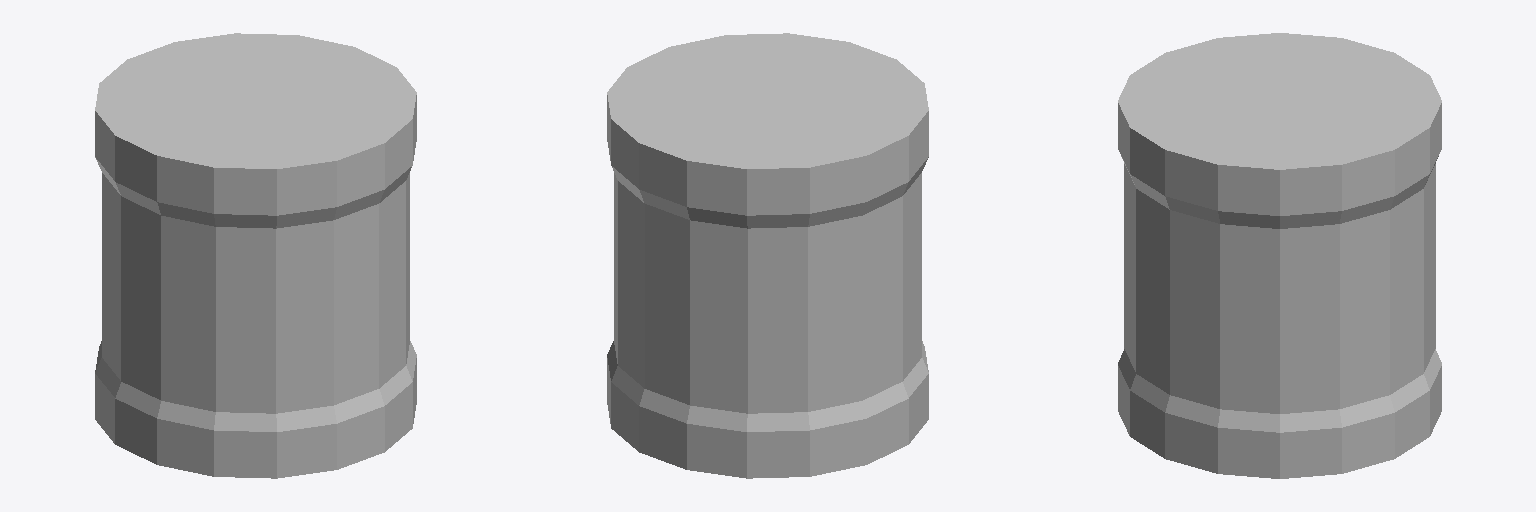
Rendered from fueltank(alternate).obj.
3 views of the same model, side by side, from view 1: azimuth 30°, elevation 25°; view 2: azimuth 150°, elevation 25°; view 3: azimuth 270°, elevation 25° (orthographic).
Parts seen in each view (by area): view 1: Cylinder.001_Cylinder.006; view 2: Cylinder.001_Cylinder.006; view 3: Cylinder.001_Cylinder.006.
Boxes of the visible parts, x1,y1,x2,y2 form: Cylinder.001_Cylinder.006: [95, 33, 416, 478]; Cylinder.001_Cylinder.006: [607, 33, 928, 478]; Cylinder.001_Cylinder.006: [1118, 33, 1441, 478].
Bounding box in the file's own units: 1.88 × 1.97 × 1.88.